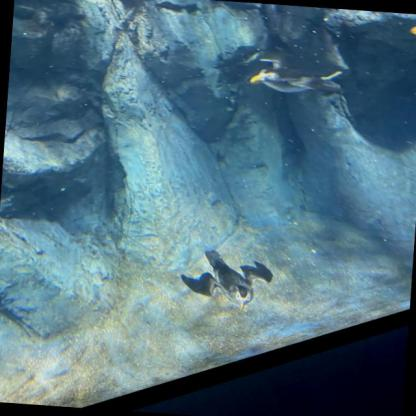puffin: (178, 247, 274, 313), (247, 52, 348, 96), (406, 22, 416, 51)
